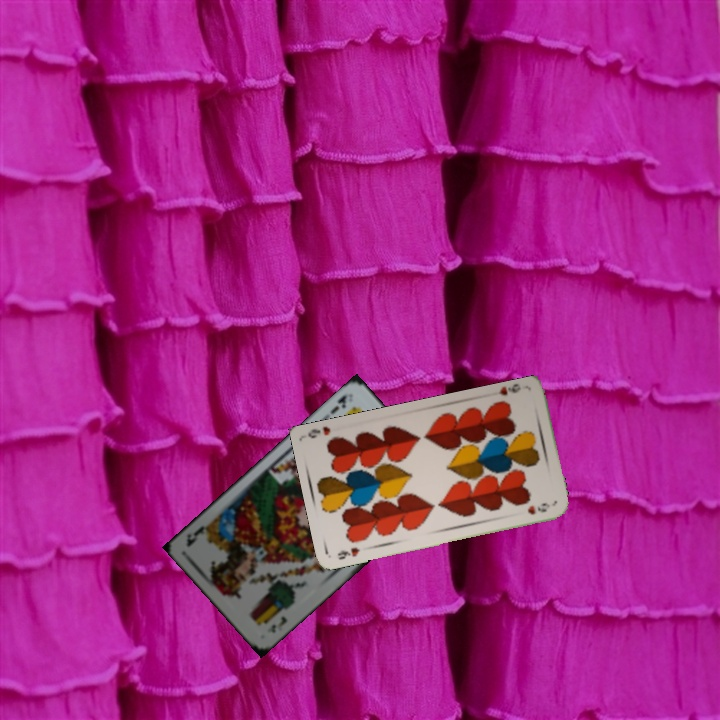EK: (327, 389, 352, 417), (264, 612, 290, 636)
H9: (489, 381, 523, 398), (334, 543, 362, 562)
